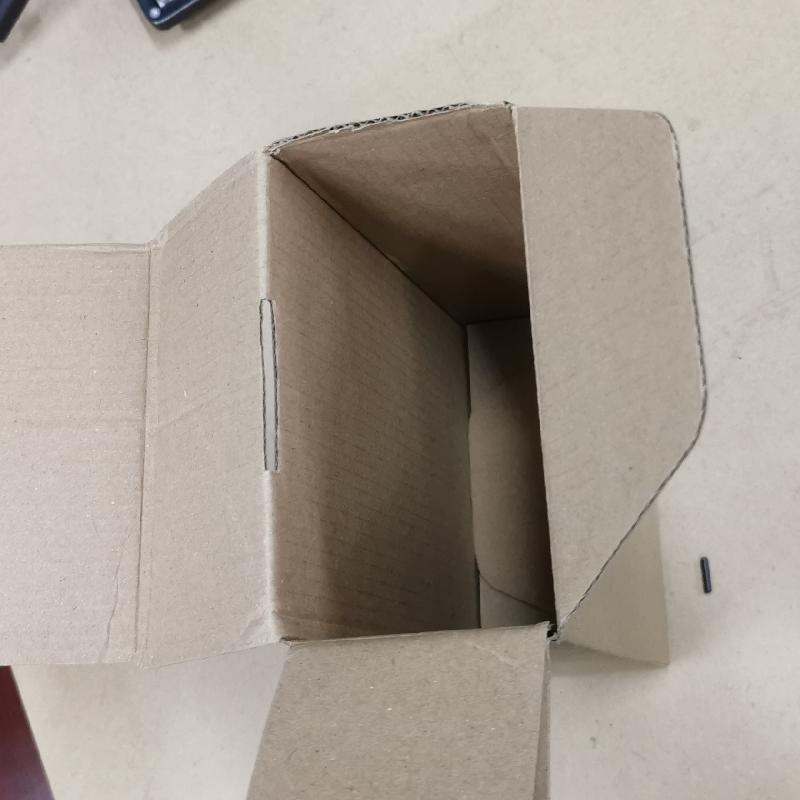boxes: (8, 97, 709, 800)
